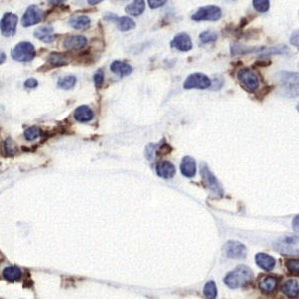Lymphocyte: (256, 272, 282, 295)
